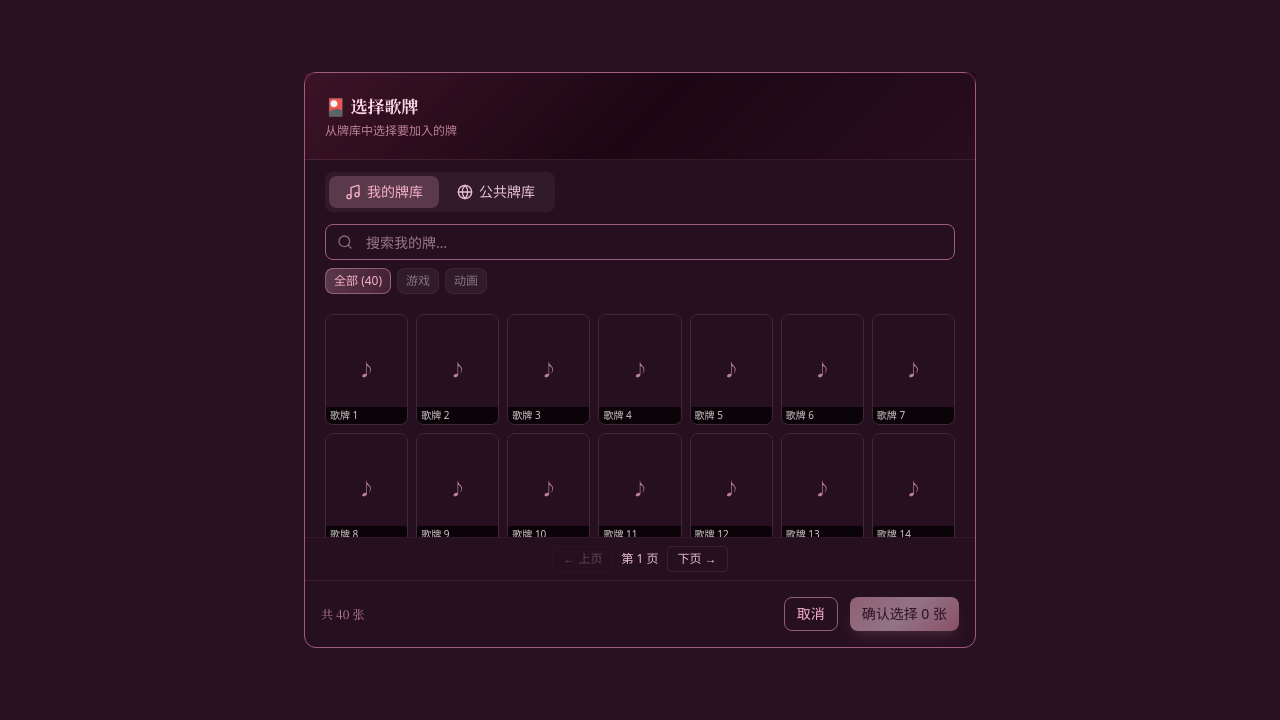
Test: 加入牌组时的牌库分页 › 搜索查询整个牌库并回到首页，清除搜索恢复分页列表
Expected: the text "歌牌 1" is shown, [330,408,358,422]
Click the button "下页 →".
click(697, 559)  # box [667,546,728,572]
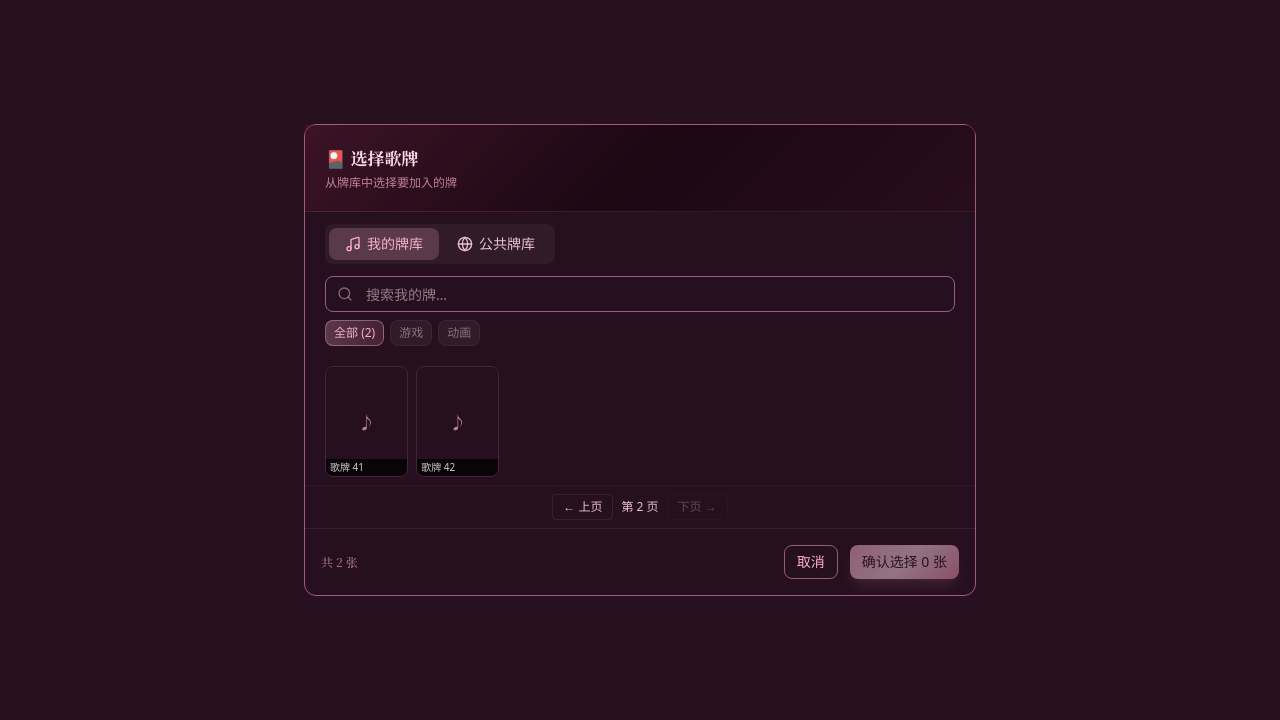
Now the text "歌牌 41" is shown, box [330,460,364,474]
Type "旧歌牌" into the field with placeholder "搜索我的牌…".
click(640, 294); type("旧歌牌")  # box [325,276,955,312]
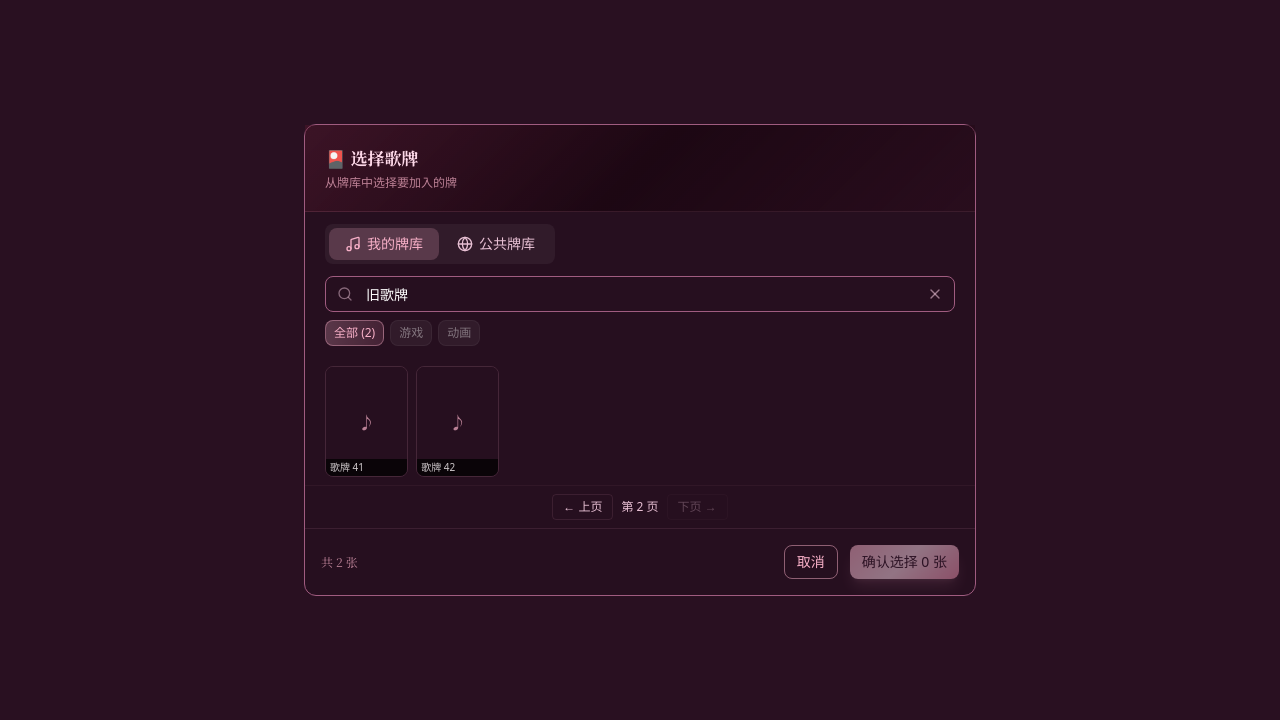
Press Enter in the field with placeholder "搜索我的牌…", box [325,276,955,312]
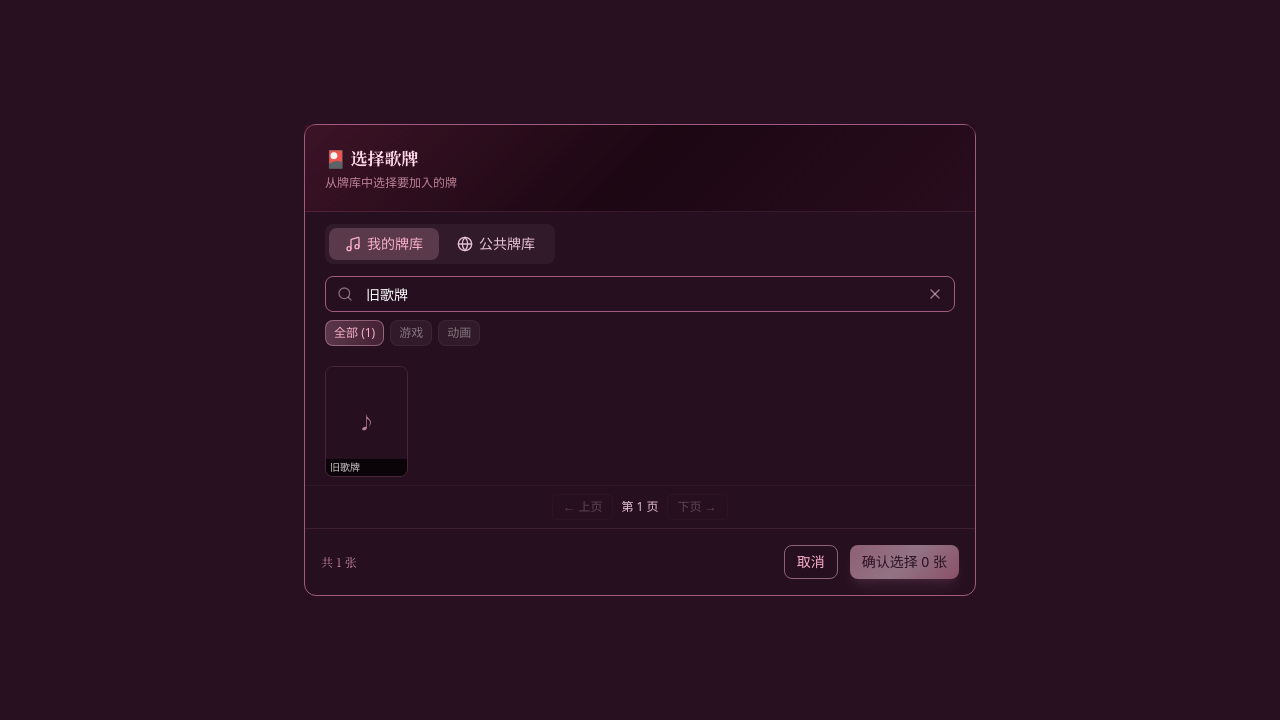
Now the text "旧歌牌" is shown, box [330,460,360,474]
Now the text "第 1 页" is shown, box [621,499,658,515]
Click the button named "清除搜索".
click(935, 294)  # box [923,282,947,306]
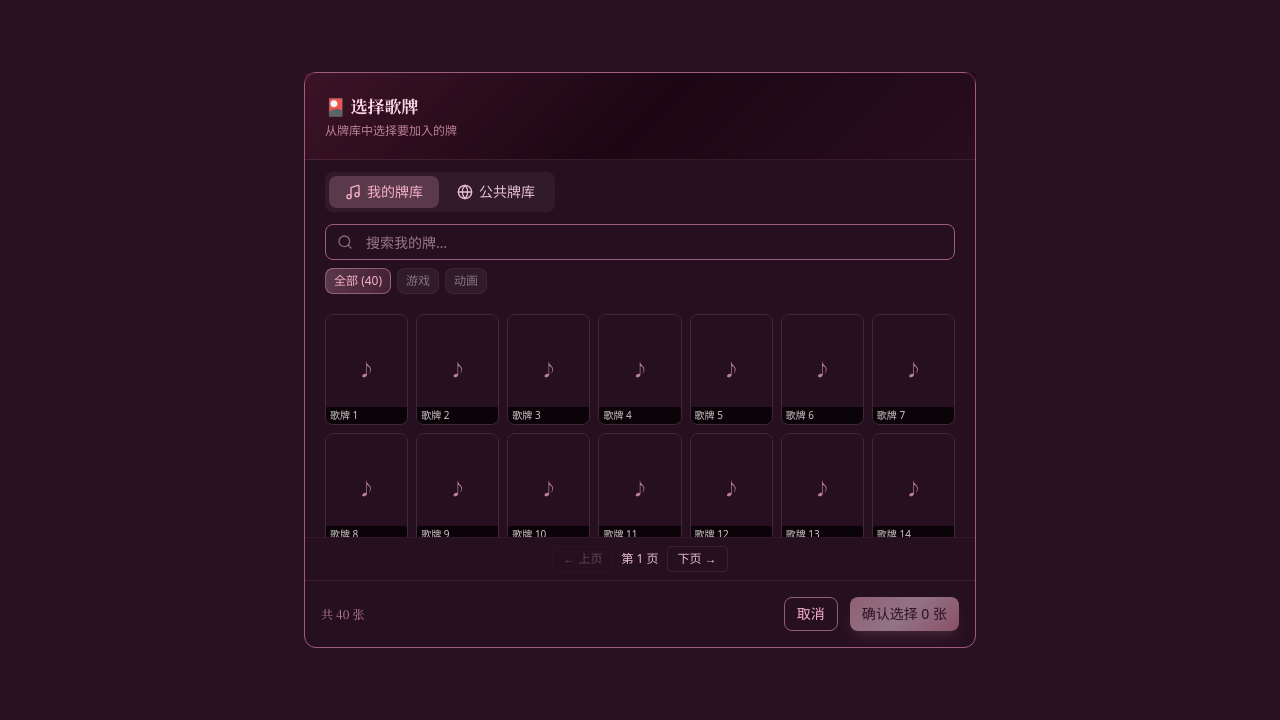
Now the text "歌牌 1" is shown, box [330,408,358,422]
